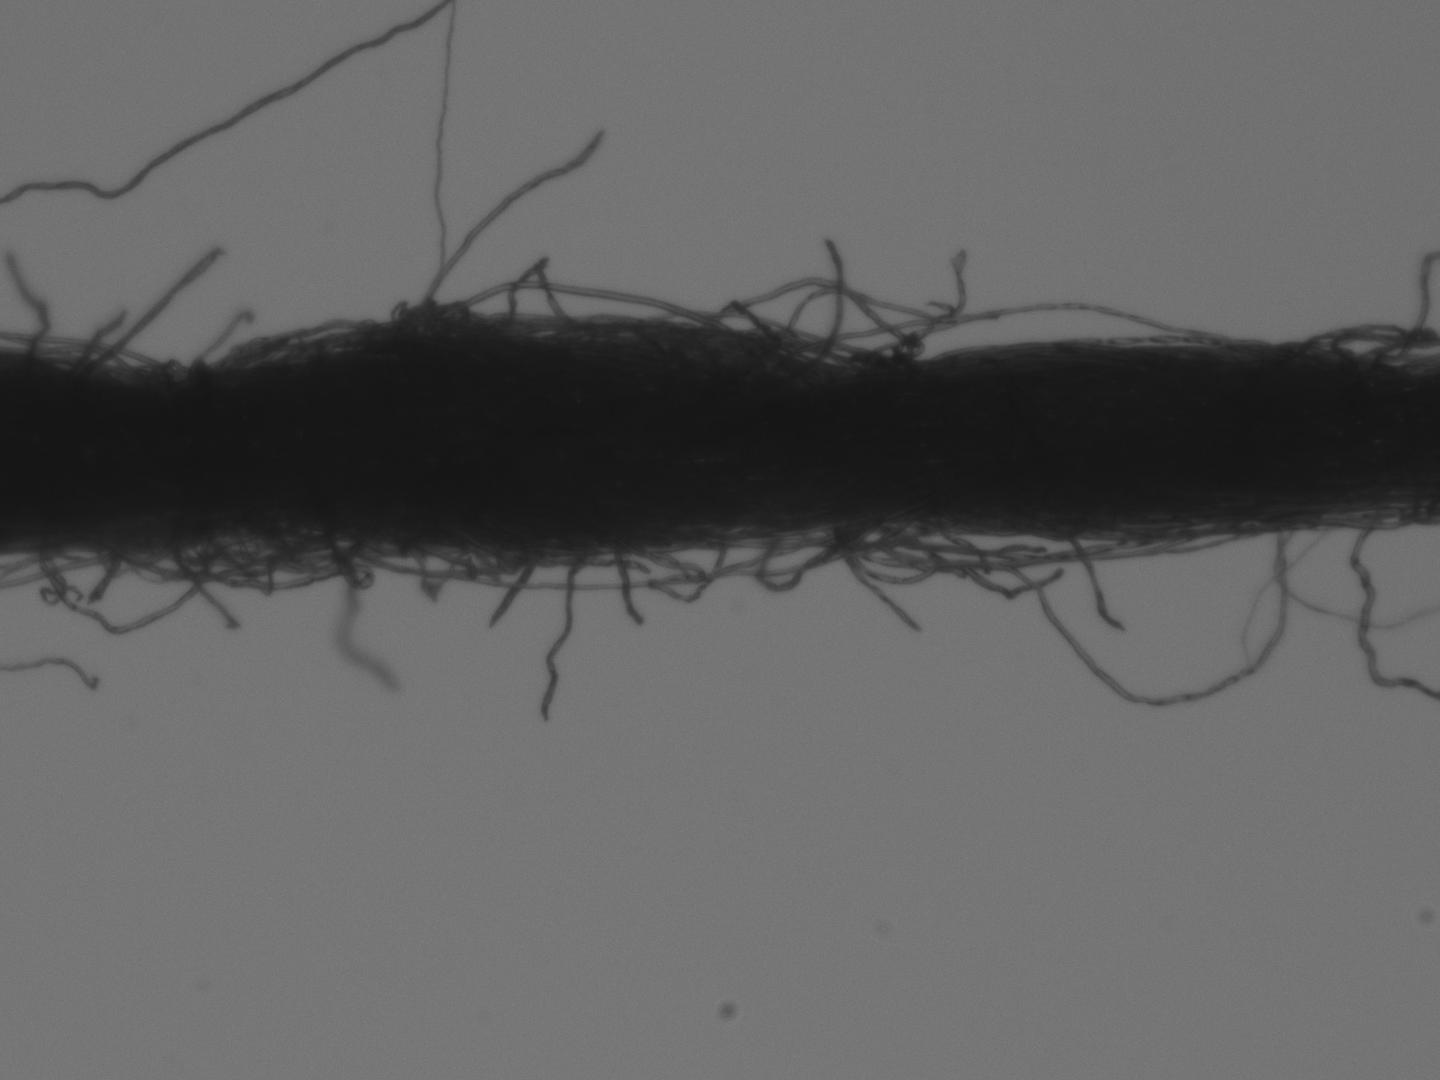loop_fiber: (892, 522, 1289, 701), (816, 299, 1220, 354), (449, 281, 735, 345), (41, 538, 213, 638), (882, 525, 1140, 568), (778, 285, 917, 360), (204, 531, 358, 593), (756, 524, 867, 598), (218, 318, 386, 364), (836, 517, 940, 584), (355, 541, 523, 580), (1289, 323, 1405, 366), (702, 305, 774, 352)
protruding_fiber: (0, 5, 448, 202), (413, 130, 605, 309), (91, 243, 222, 368), (532, 551, 586, 722), (171, 545, 240, 635), (1066, 534, 1125, 631), (486, 551, 545, 626), (9, 250, 48, 354), (617, 541, 646, 626), (823, 241, 844, 353)
